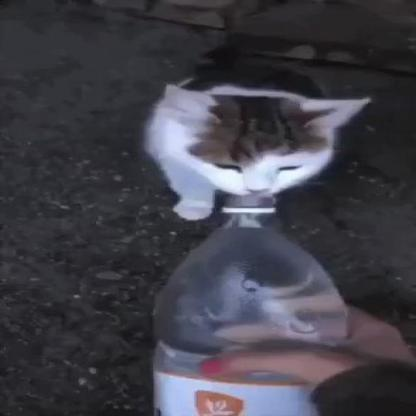Plastic Bottle: (154, 196, 346, 416)
